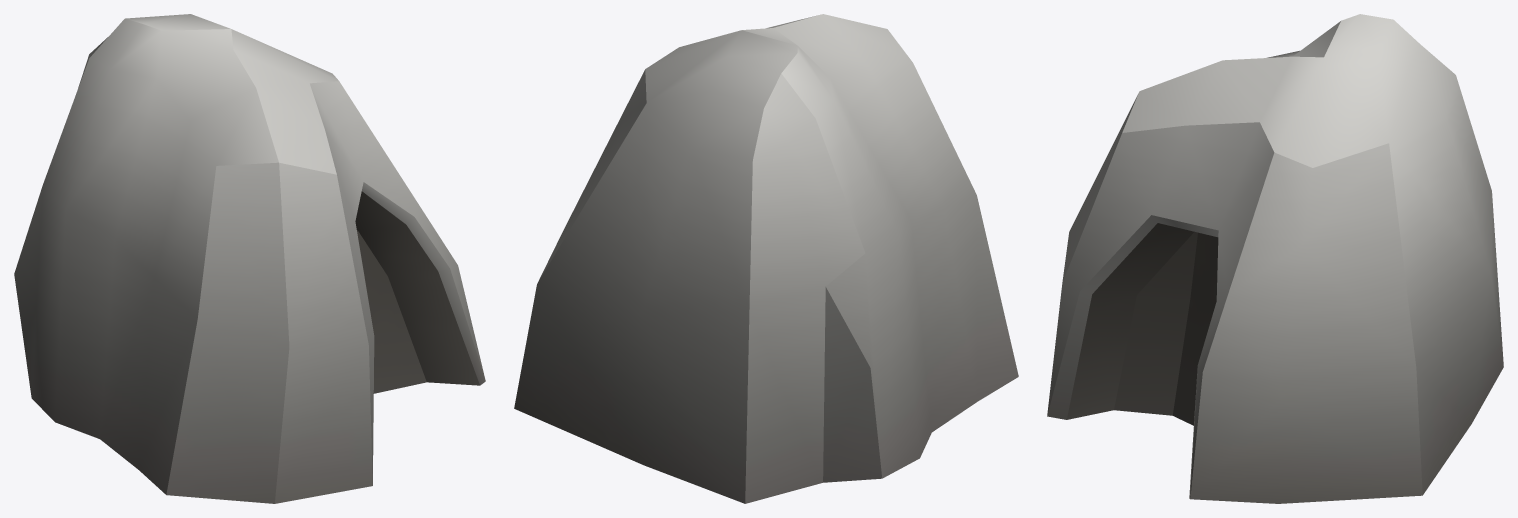
Rendered from Rock_Cave_Entry_A.fbx.
3 views of the same model, side by side, from view 1: azimuth 30°, elevation 25°; view 2: azimuth 150°, elevation 25°; view 3: azimuth 270°, elevation 25° (orthographic). The views are drawn at different scales.
Parts seen in each view (by area): view 1: Rock_Cave_Entry_A; view 2: Rock_Cave_Entry_A; view 3: Rock_Cave_Entry_A.
Boxes of the visible parts, <box> form: Rock_Cave_Entry_A: <box>14,14,485,503</box>; Rock_Cave_Entry_A: <box>514,14,1018,503</box>; Rock_Cave_Entry_A: <box>1047,14,1503,503</box>.
Size of the model in its own units: 537 by 590 by 527.
Materials: 1 (1 with a texture image).
